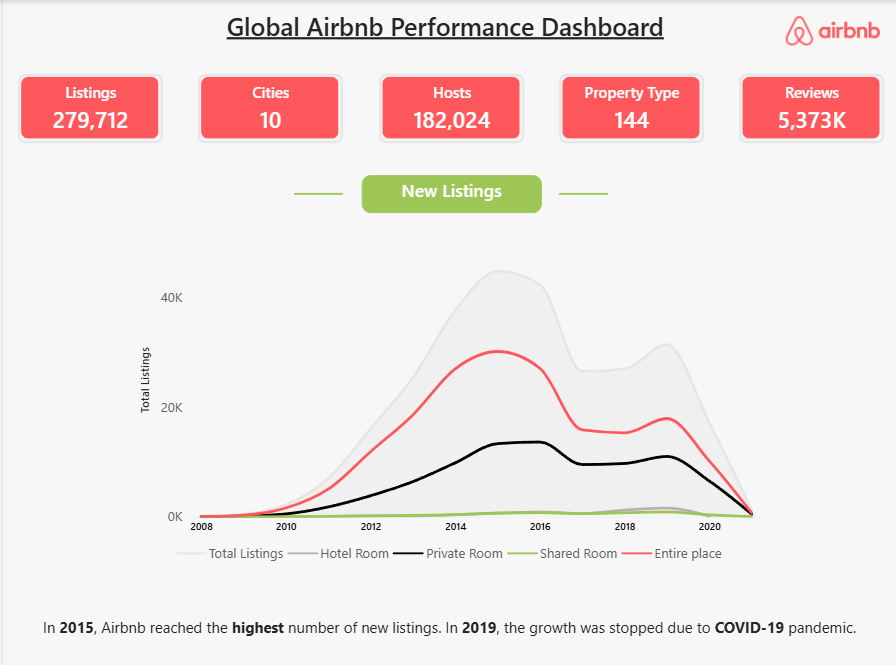

The dashboard page shown, as its layout file describes it:
{"tool":"powerbi","page":{"name":"Overview","canvas":[960,720],"ordinal":0},"visuals":[{"type":"textbox","box":[239.9,9.7,480.2,44.6],"z":0},{"type":"image","box":[832.4,16.9,112.2,31.4],"z":1},{"type":"cardVisual","fields":{"Data":["Count(Listings.property_type)"]},"box":[595.7,79.6,155,74],"z":2},{"type":"cardVisual","fields":{"Data":["Count(Listings.host_id)"]},"box":[402.3,79.6,155,74],"z":3},{"type":"cardVisual","fields":{"Data":["Count(Listings.city)"]},"box":[209,79.6,155,74],"z":4},{"type":"cardVisual","fields":{"Data":["CountNonNull(Listings.listing_id)"]},"box":[15.7,79.6,155,74],"z":5},{"type":"cardVisual","fields":{"Data":["Count(Reviews.review_id)"]},"box":[789,78.4,155,74],"z":6},{"type":"lineChart","fields":{"Category":["Listings.host_since.Variation.Date Hierarchy.Year"],"Y":["CountNonNull(Listings.listing_id)","Listings.Hotel Room","Listings.Private Room","Listings.Shared Room","Listings.Entire place"]},"box":[130.7,236.5,698.5,386.1],"z":7},{"type":"textbox","box":[383.6,187,193,41],"z":8},{"type":"textbox","box":[42.2,659.9,874.7,38.6],"z":9},{"type":"shape","box":[311.3,189.4,51.9,35],"z":10},{"type":"shape","box":[596,190.6,51.9,35],"z":11}]}

Visuals, with their boxes in screenshot pixels (x1, y1, x2, y2), scaled from the page's 960x720 canvas onto the 896x665 screenshot:
textbox: (x1=224, y1=9, x2=672, y2=50)
image: (x1=777, y1=16, x2=882, y2=45)
cardVisual - Count(Listings.property_type): (x1=556, y1=74, x2=701, y2=142)
cardVisual - Count(Listings.host_id): (x1=375, y1=74, x2=520, y2=142)
cardVisual - Count(Listings.city): (x1=195, y1=74, x2=340, y2=142)
cardVisual - CountNonNull(Listings.listing_id): (x1=15, y1=74, x2=159, y2=142)
cardVisual - Count(Reviews.review_id): (x1=736, y1=72, x2=881, y2=141)
lineChart - Listings.host_since.Variation.Date Hierarchy.Year x CountNonNull(Listings.listing_id): (x1=122, y1=218, x2=774, y2=575)
textbox: (x1=358, y1=173, x2=538, y2=211)
textbox: (x1=39, y1=609, x2=856, y2=645)
shape: (x1=291, y1=175, x2=339, y2=207)
shape: (x1=556, y1=176, x2=605, y2=208)
